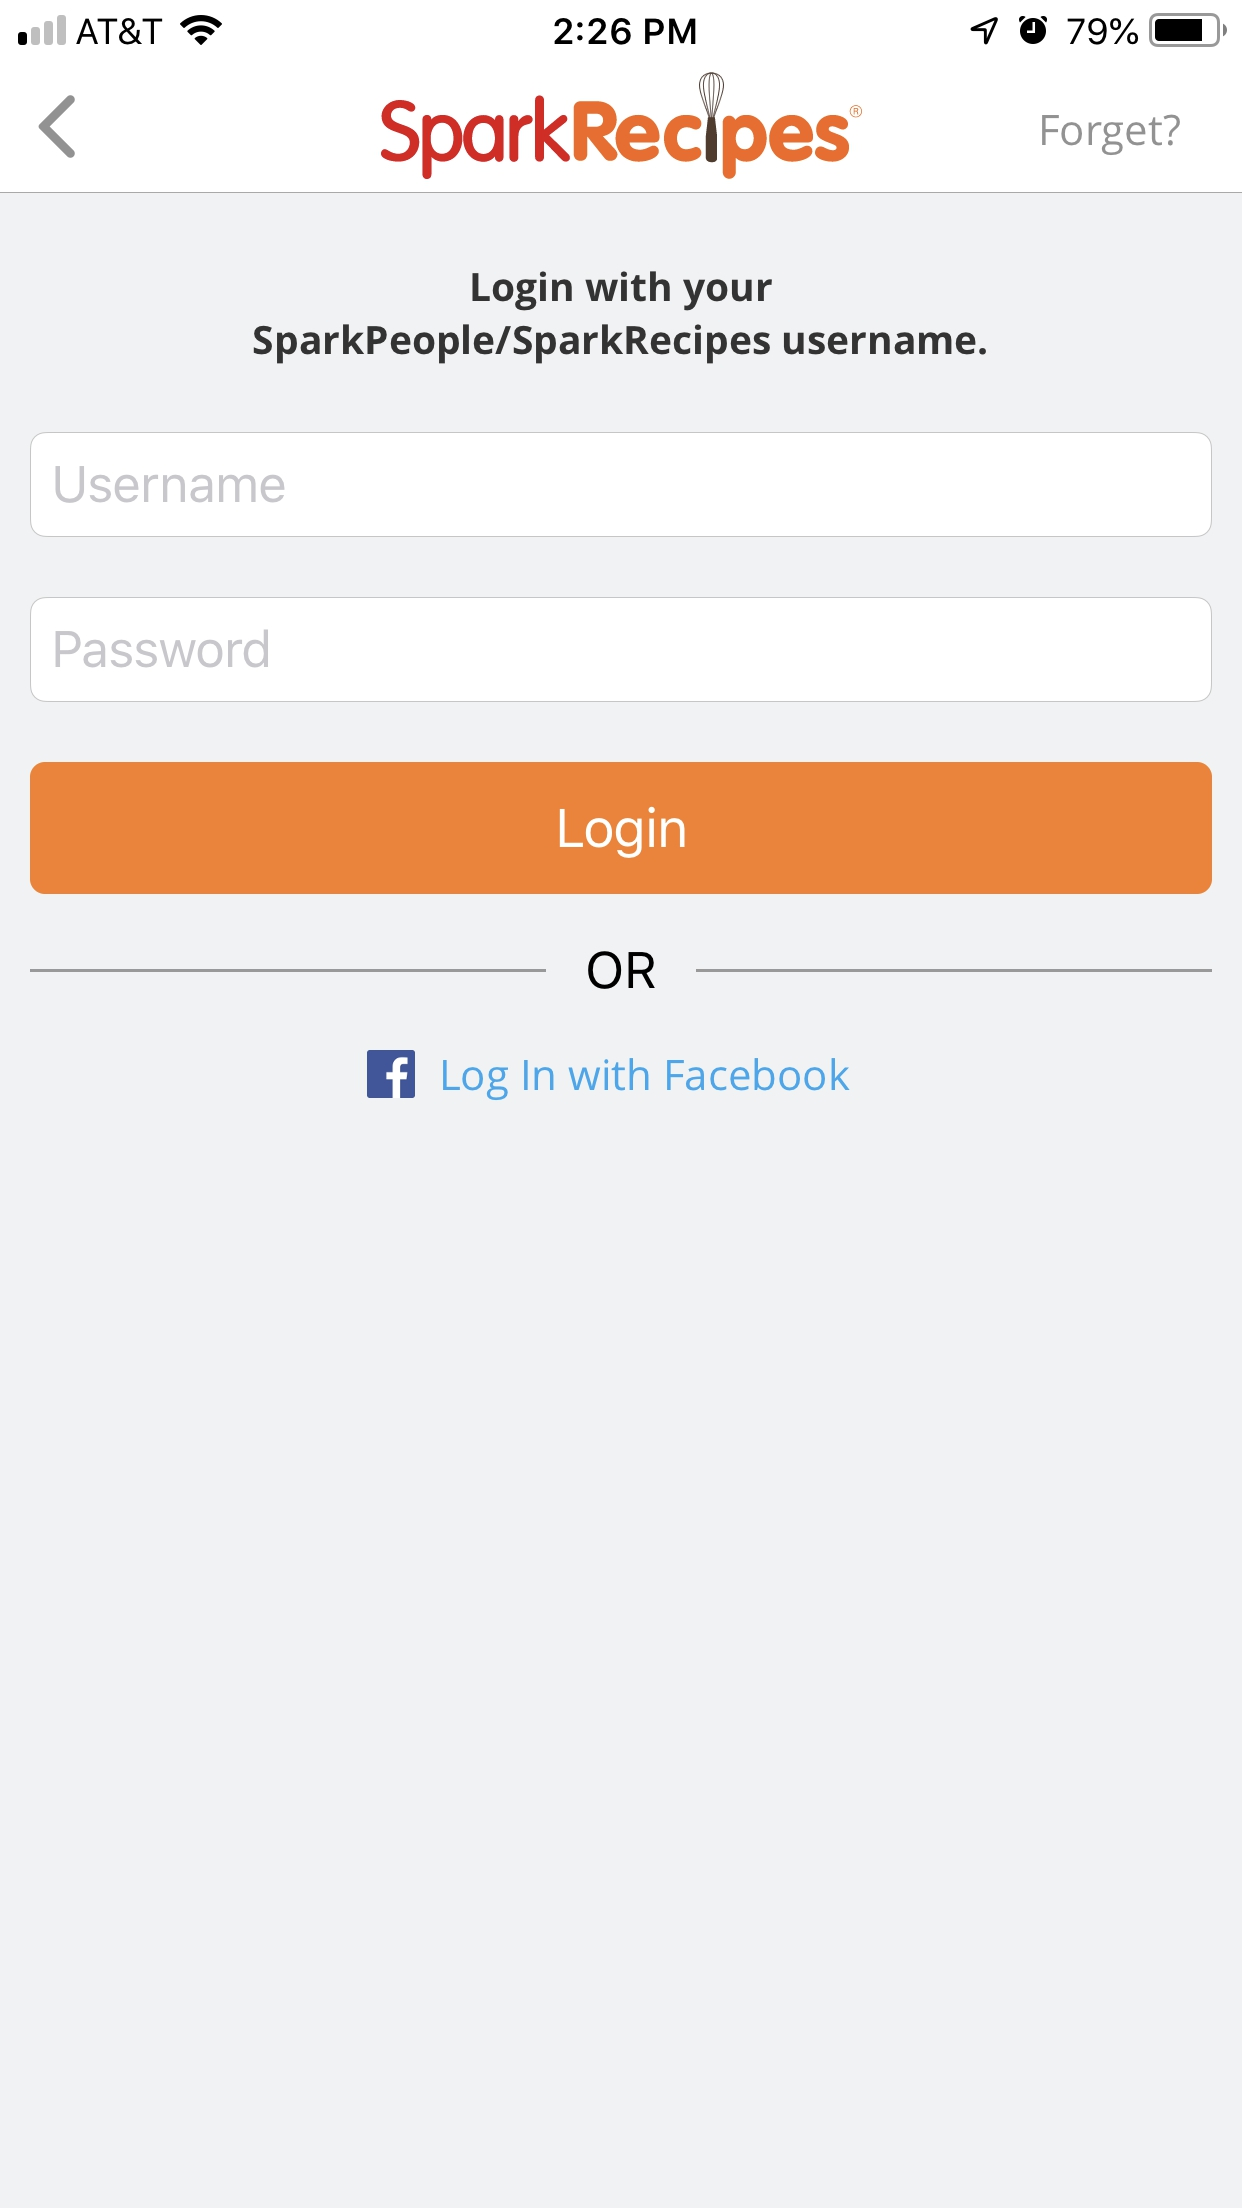EditText: (30, 597, 1213, 704), (30, 434, 1213, 538)
Icon: (367, 1049, 416, 1099), (38, 96, 76, 159)
Image: (381, 71, 863, 180)
Text: (253, 271, 987, 365), (443, 1057, 851, 1101), (56, 467, 287, 503), (56, 629, 268, 669), (1042, 114, 1181, 158), (588, 949, 657, 990)
TextButton: (30, 761, 1212, 895)
UpperTaskBar: (2, 2, 1242, 49)
